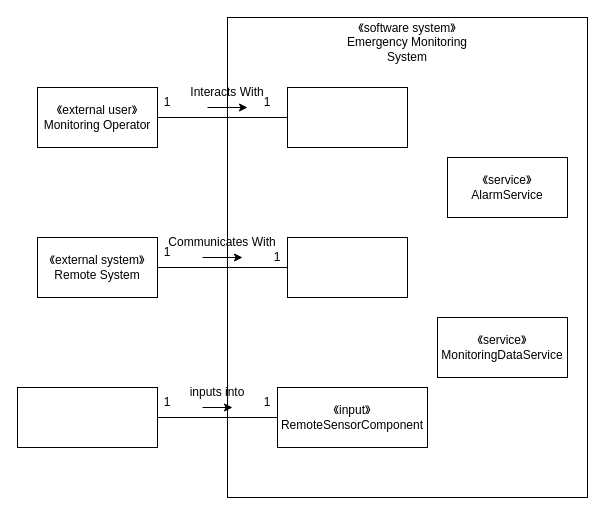
This 605x515 diagram has some shape labels left out. Here are the shapes that lost their labels. From the top down, the centre of each, then its label:
point 347,117: 《user interaction》 OperatorInterface
point 347,267: 《proxy》 RemoteSystemProxy
point 87,417: 《external input device》 Monitoring Sensor
